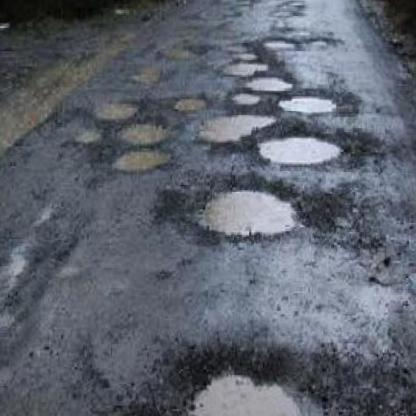pothole: (174, 346, 318, 416), (189, 179, 306, 241), (254, 126, 347, 169), (195, 108, 277, 145), (111, 145, 175, 174), (273, 87, 339, 114), (116, 121, 169, 146), (90, 97, 141, 119), (220, 57, 271, 75), (242, 73, 290, 91), (262, 34, 297, 49), (173, 92, 206, 107)
